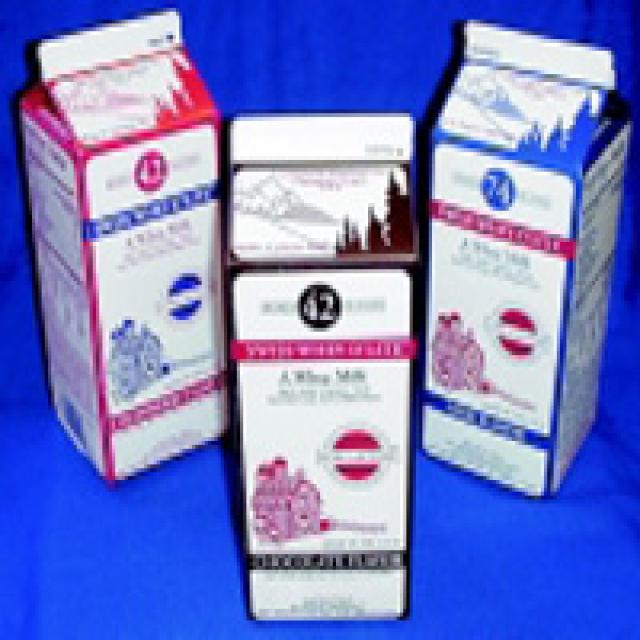Carton: (419, 0, 640, 511), (6, 9, 232, 500), (222, 98, 424, 640)
